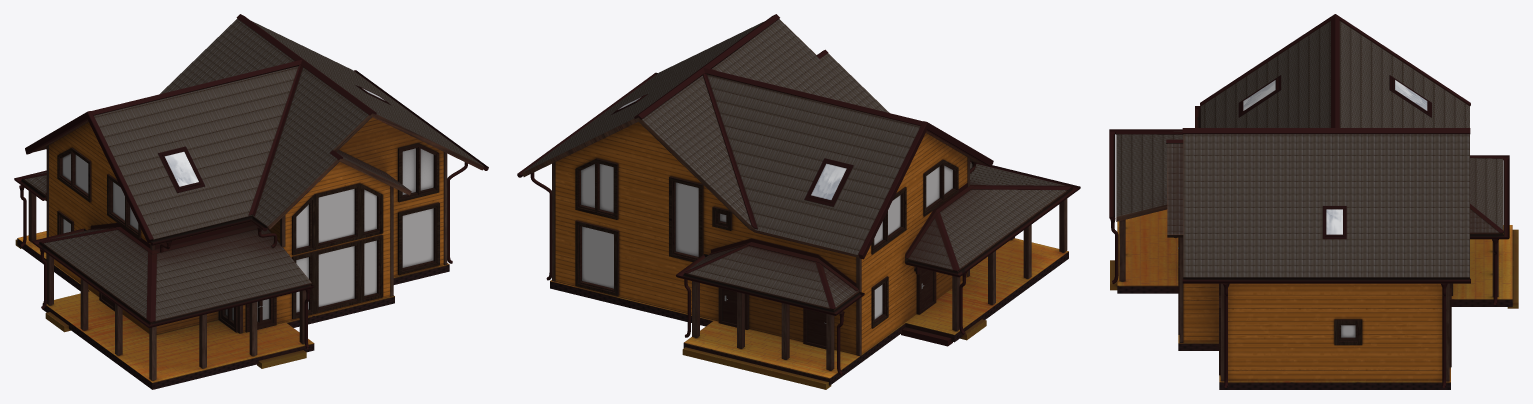
3 views of the same model, side by side, from view 1: azimuth 30°, elevation 25°; view 2: azimuth 150°, elevation 25°; view 3: azimuth 270°, elevation 25° (orthographic). The views are drawn at different scales.
Parts seen in each view (by area): view 1: 3. Roof 1_258, 4. Roof 2_255, 2. Main_254, 1. Foundation_257, Glass.002_77, Posts 1_259, Glass.003_78, Window.001_61, Rainshield.004_44, Window.002_62, Drain.001_32, Rainshield.006_46 (+15 smaller); view 2: 3. Roof 1_258, 2. Main_254, 1. Foundation_257, 4. Roof 2_255, 5. Roof 3_256, Glass.004_79, Rainshield.004_44, Posts 2_260, Rainshield.006_46, Posts 1_259, Glass.005_80, Door.003_74 (+19 smaller); view 3: 3. Roof 1_258, 2. Main_254, 1. Foundation_257, 4. Roof 2_255, Rainshield.004_44, 5. Roof 3_256, Drain_35, 6. Moldings_261, Rainshield.006_46, Glass.010_86, Drain.003_34, Drain.001_32 (+7 smaller).
Boxes of the visible parts, <box> form: 3. Roof 1_258: <box>32,18,484,240</box>; 4. Roof 2_255: <box>41,228,311,322</box>; 2. Main_254: <box>49,117,443,334</box>; 1. Foundation_257: <box>17,231,449,389</box>; Glass.002_77: <box>296,189,376,312</box>; Posts 1_259: <box>46,253,306,380</box>; Glass.003_78: <box>402,148,433,267</box>; Window.001_61: <box>292,235,383,319</box>; Rainshield.004_44: <box>91,14,376,115</box>; Window.002_62: <box>292,183,383,255</box>; Drain.001_32: <box>32,228,313,327</box>; Rainshield.006_46: <box>25,111,153,243</box>; 3. Roof 1_258: <box>522,19,983,257</box>; 2. Main_254: <box>555,122,967,354</box>; 1. Foundation_257: <box>550,238,1068,385</box>; 4. Roof 2_255: <box>905,162,1071,271</box>; 5. Roof 3_256: <box>685,246,859,310</box>; Glass.004_79: <box>581,164,613,288</box>; Rainshield.004_44: <box>634,14,922,125</box>; Posts 2_260: <box>692,281,834,370</box>; Rainshield.006_46: <box>858,121,992,259</box>; Posts 1_259: <box>952,198,1067,331</box>; Glass.005_80: <box>675,182,726,256</box>; Door.003_74: <box>718,287,826,349</box>; 3. Roof 1_258: <box>1167,21,1469,278</box>; 2. Main_254: <box>1183,283,1442,381</box>; 1. Foundation_257: <box>1117,209,1512,389</box>; 4. Roof 2_255: <box>1116,131,1183,221</box>; Rainshield.004_44: <box>1182,16,1470,133</box>; 5. Roof 3_256: <box>1470,158,1503,234</box>; Drain_35: <box>1182,278,1470,283</box>; 6. Moldings_261: <box>1179,237,1449,381</box>; Rainshield.006_46: <box>1200,14,1470,106</box>; Glass.010_86: <box>1243,80,1427,234</box>; Drain.003_34: <box>1470,155,1509,239</box>; Drain.001_32: <box>1109,129,1182,220</box>.
Bounding box in the file's own units: 4.47 × 2.26 × 3.9.
Materials: 4 (4 with a texture image).
